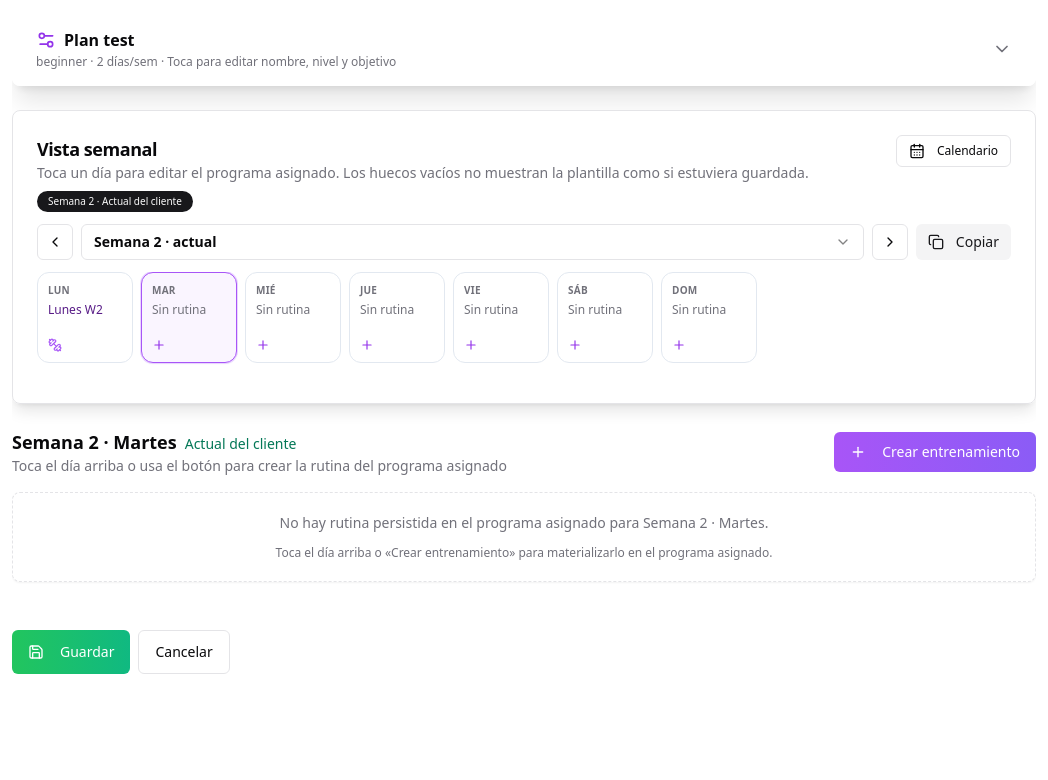
Scenario: editor de semanas del programa de usuario › abre por defecto la semana actual del cliente (sin ?week=) y muestra el indicador
Click the button "Lun Lunes W2". click: (85,318)
box: [37,272,133,363]
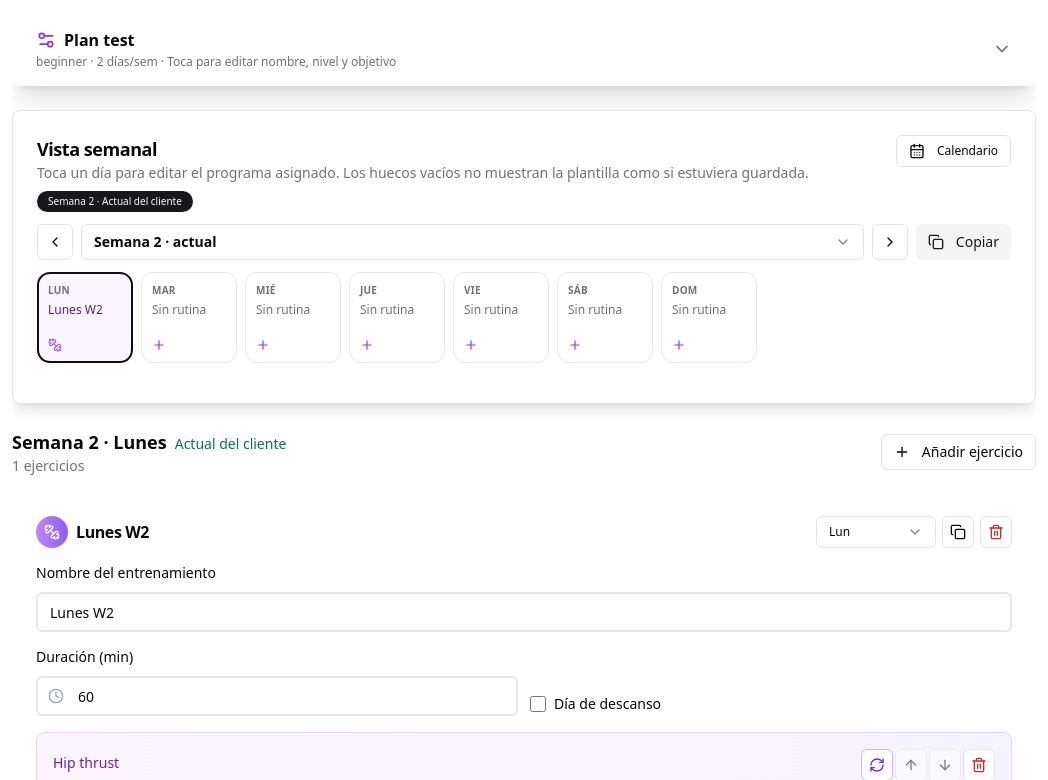
Expected: the text with test id "client-current-week-indicator" reads "Semana 2 · Actual del cliente", [48,194,182,208]
Expected: the heading "Hip thrust" is shown, [53,753,119,772]
